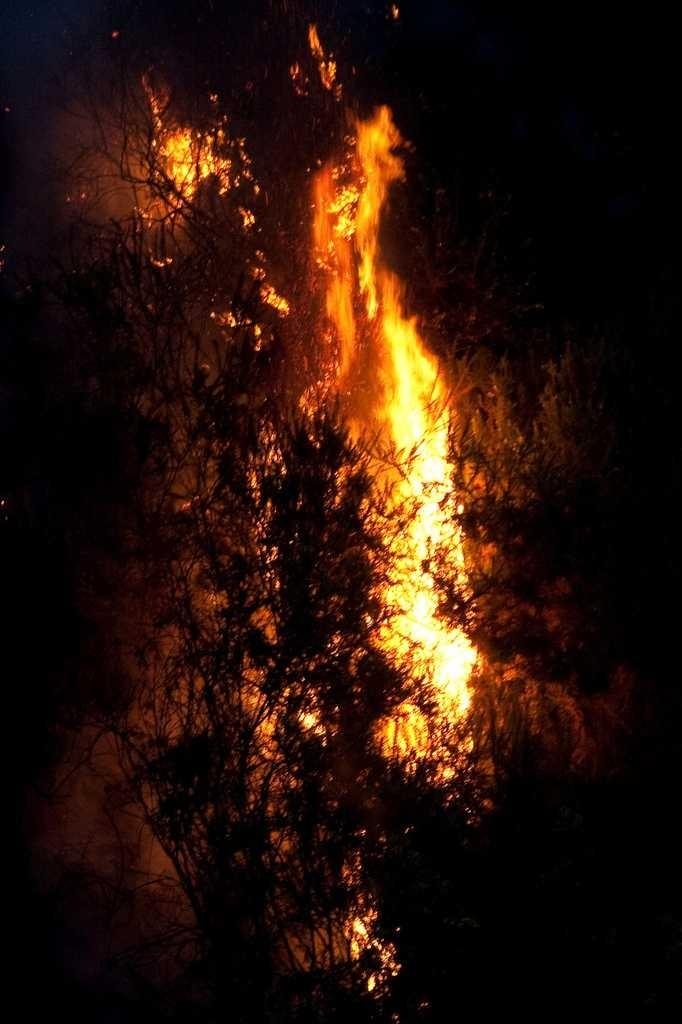fire: (388, 348, 442, 510), (327, 193, 380, 342), (427, 628, 477, 710)
